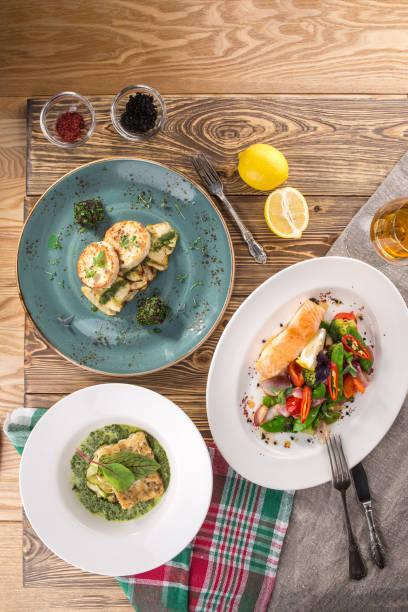Braised Crucian Carp: (20, 157, 236, 376), (204, 256, 407, 488), (21, 379, 218, 574)
